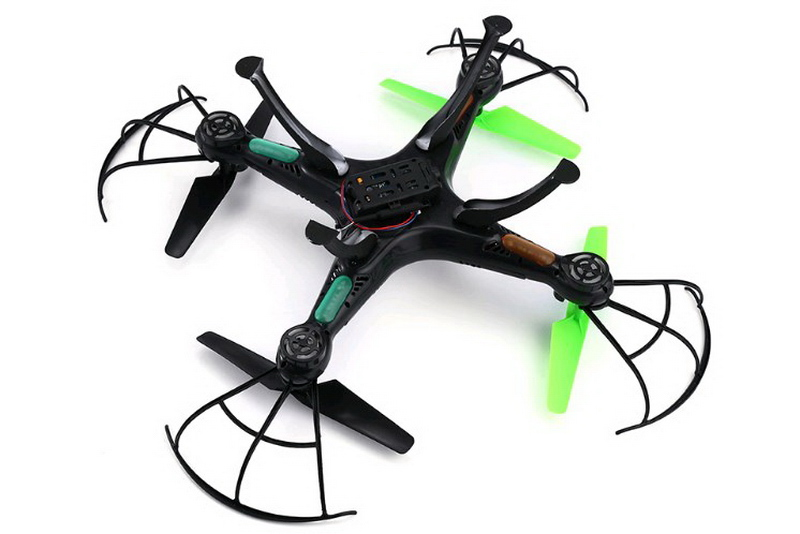drone: (95, 14, 717, 527)
